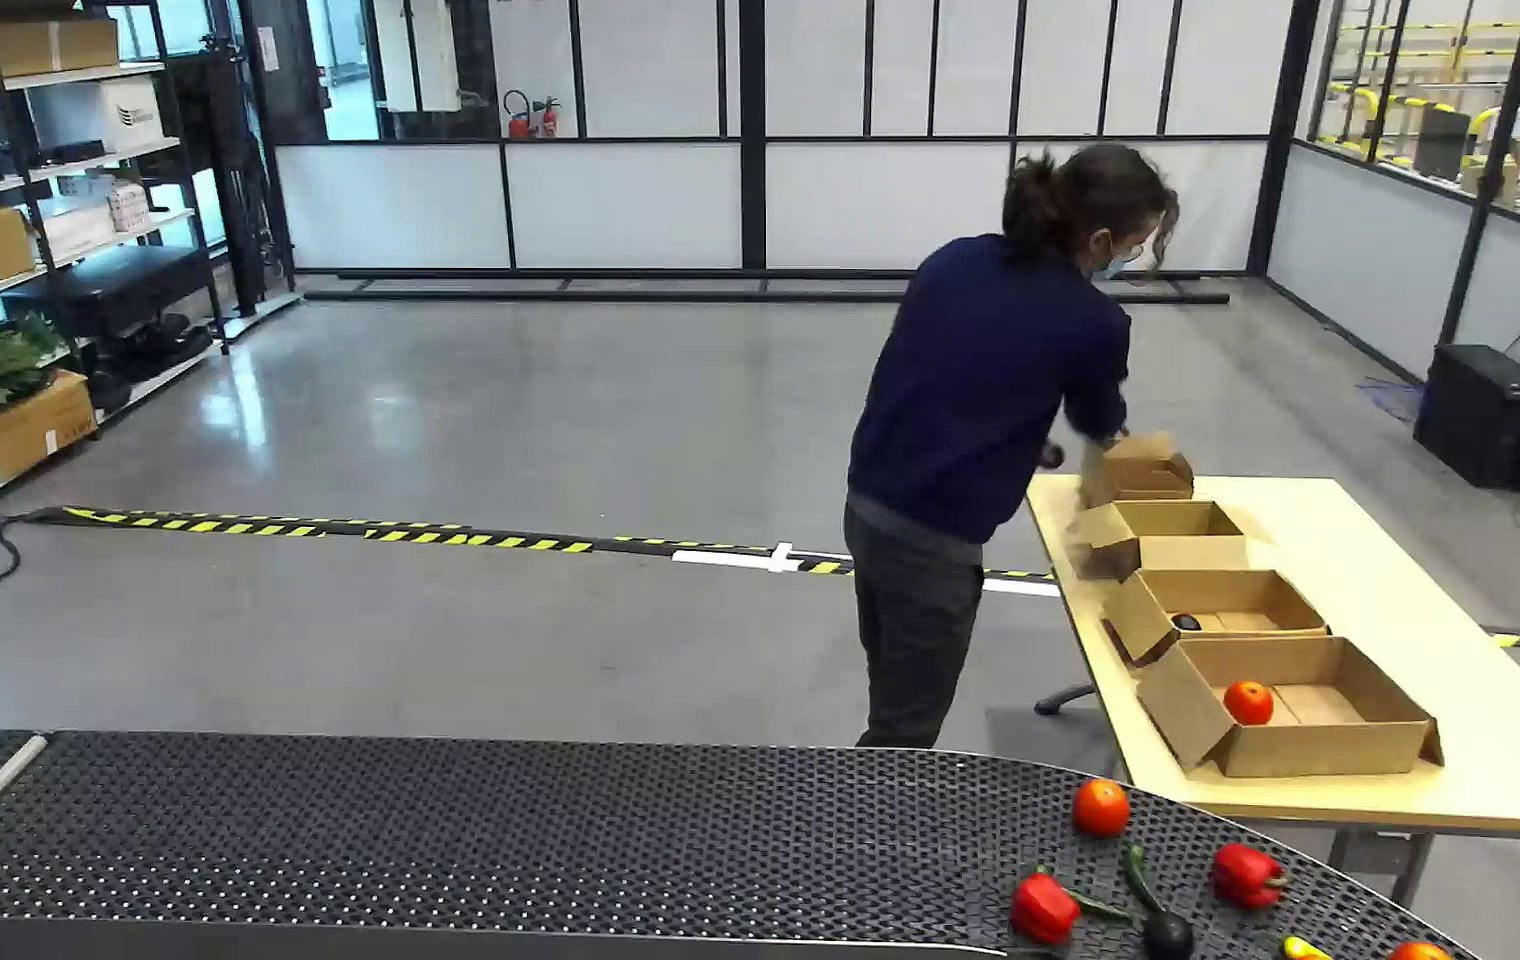Main droite: (1118, 808, 1204, 932)
